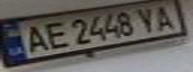2: (66, 16, 90, 46)
4: (87, 11, 109, 43), (103, 10, 124, 40)
8: (115, 8, 139, 37)
A: (18, 21, 51, 54), (148, 2, 181, 30)
E: (39, 19, 69, 51)
Y: (133, 4, 163, 34)
